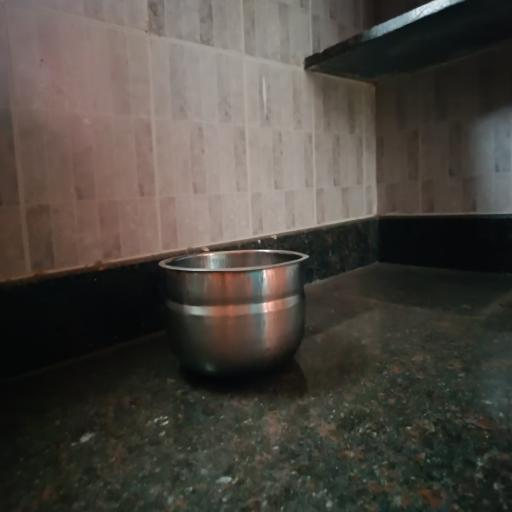vessel: (159, 250, 309, 376)
